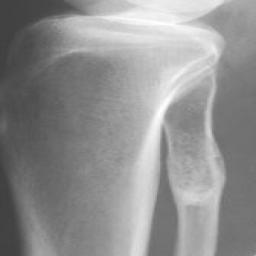cancer: (162, 67, 225, 207)
